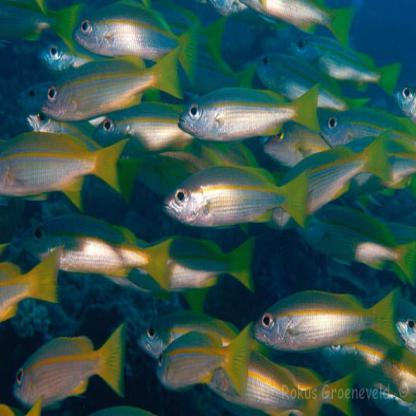snapper: (19, 214, 180, 299), (7, 312, 134, 413), (164, 157, 319, 236), (35, 48, 192, 125), (73, 4, 207, 87), (254, 286, 406, 354), (176, 76, 325, 145), (6, 129, 128, 201), (148, 324, 259, 398)
